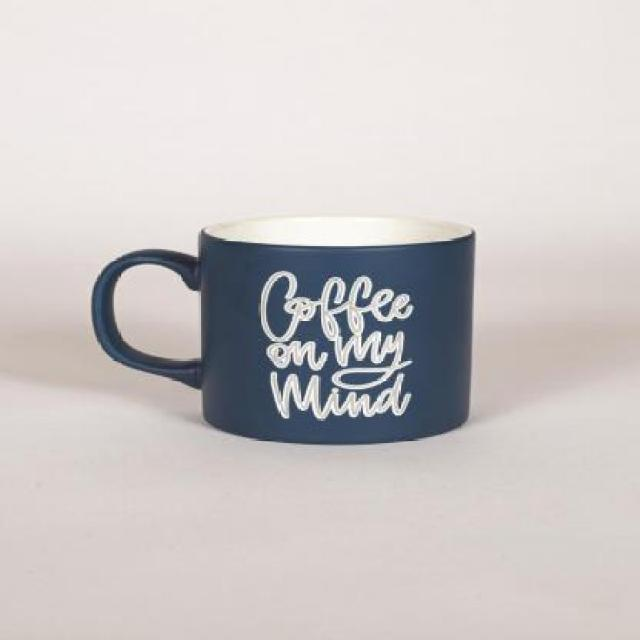taza: (83, 201, 479, 454)
